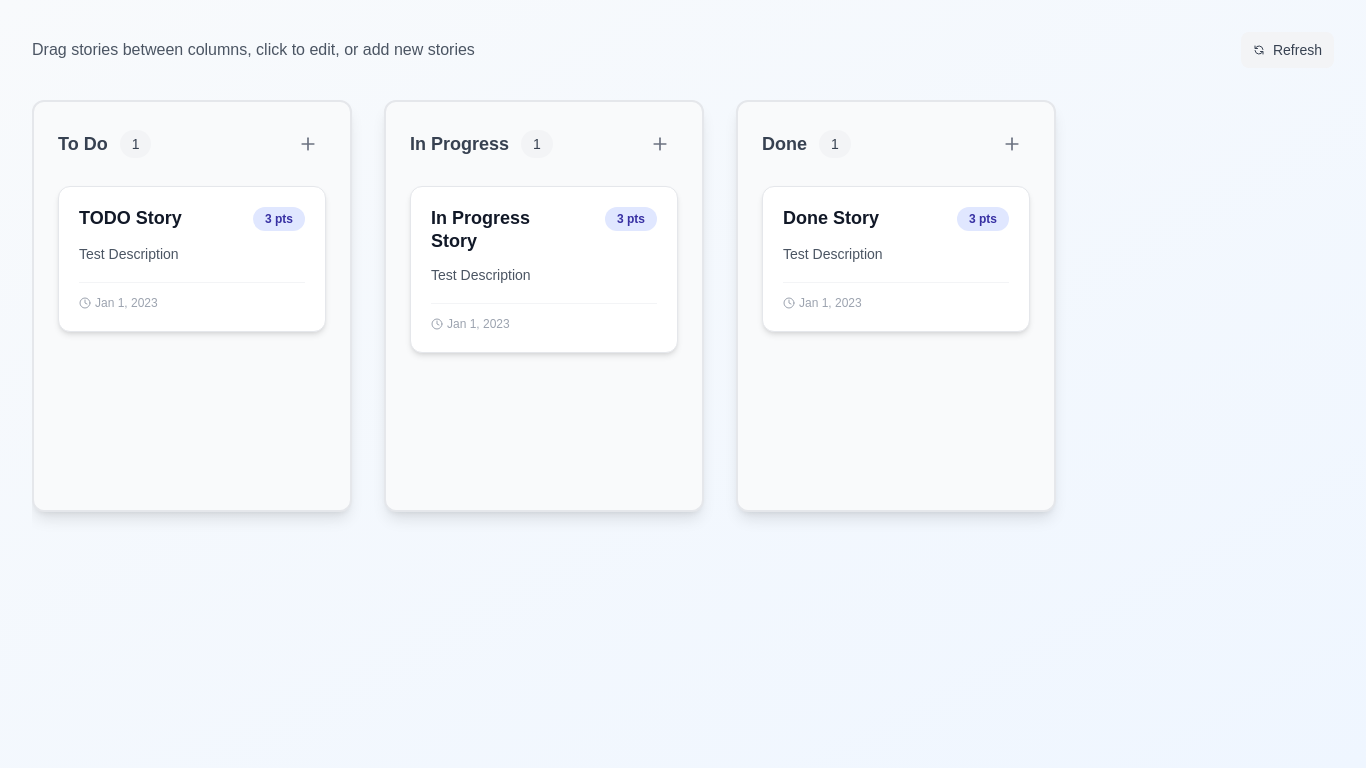
Board › Story Creation › should create draft story when add button is clicked
Expected: the heading "TODO Story" is shown, [79,208,182,228]
// Find and click an "Add new story" button (there should be one for each column)
Click the button titled "Add new story" in the row of "To Do".
click(308, 144)  # box [290,126,326,162]
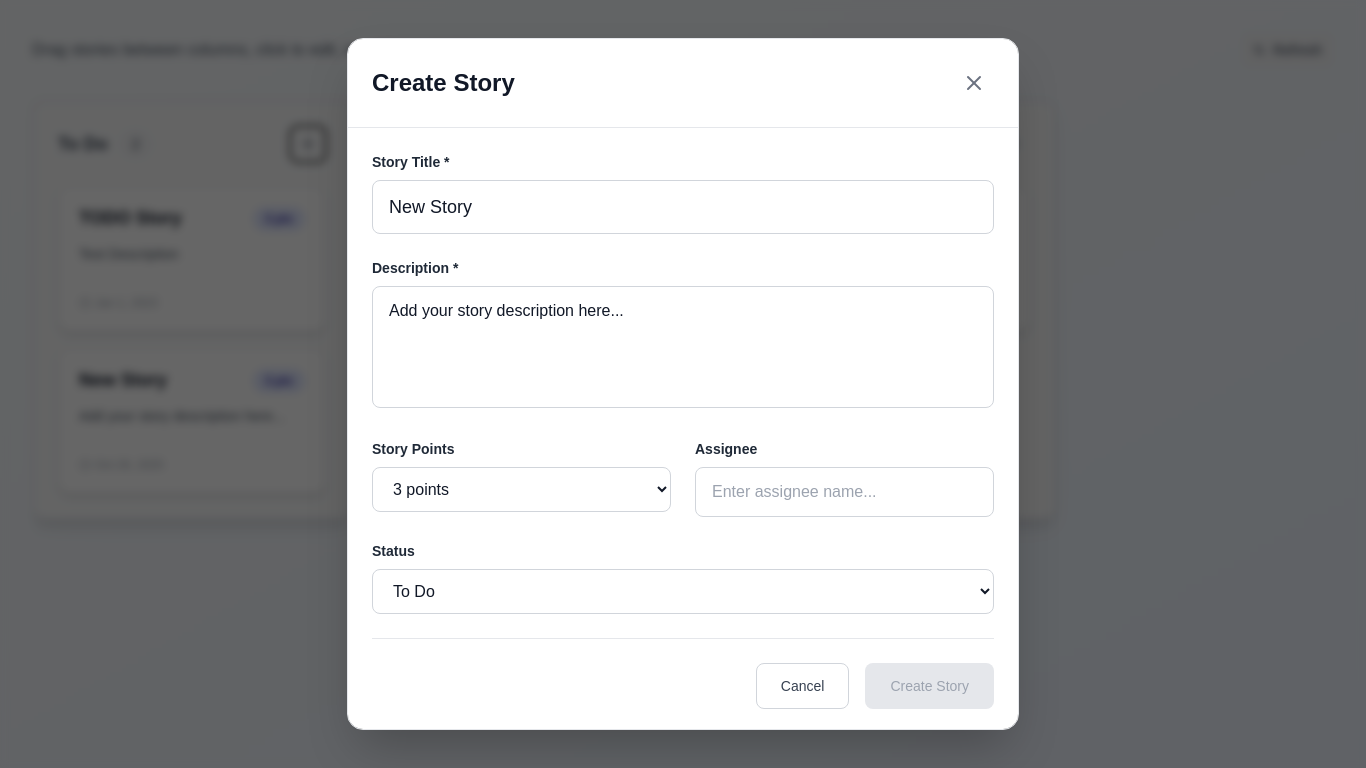
Expected: the heading "Create Story" is shown, [372,67,515,99]
Expected: the field showing "New Story" is shown, [372,180,994,234]
Expected: the text box showing "Add your story description here..." is shown, [372,286,994,408]
